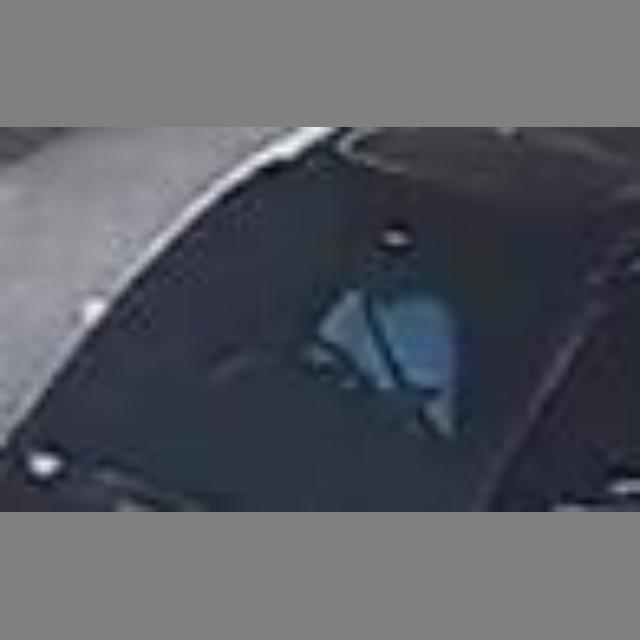pakai: (268, 258, 490, 440)
